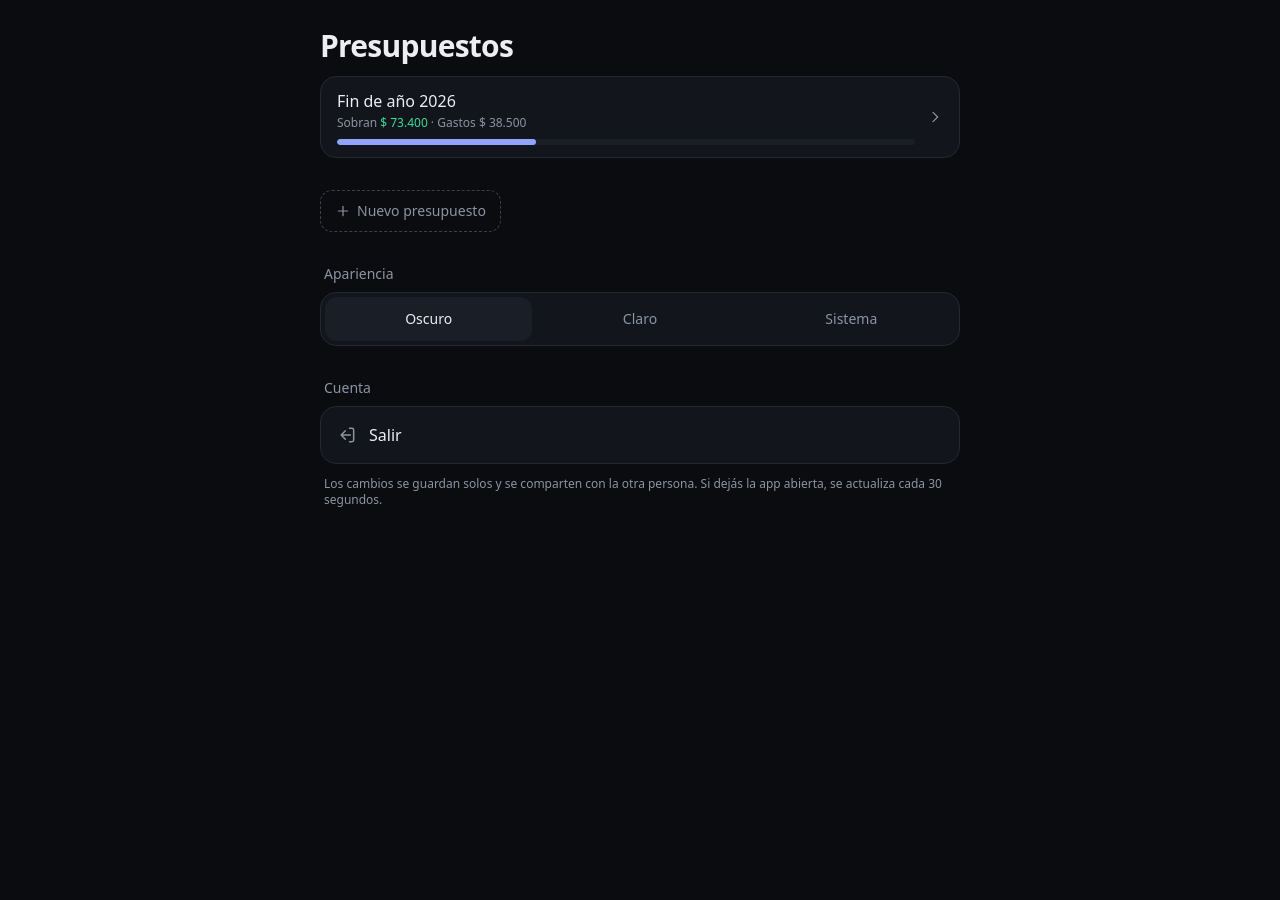
it: crear un presupuesto › crea una copia con el nombre indicado y la abre
Click the button "Nuevo presupuesto". click: (410, 211)
box: [320,190,501,232]
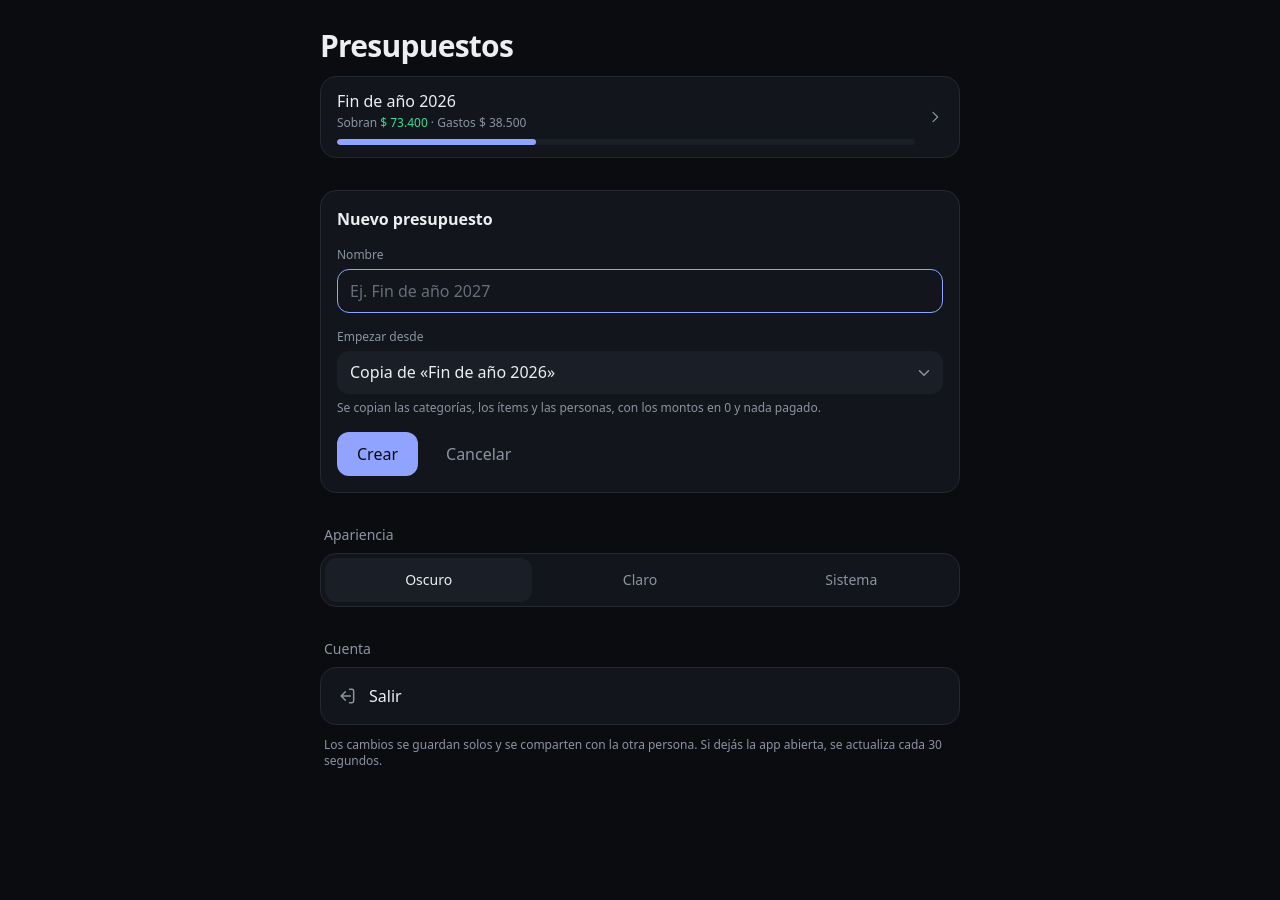
Type "Fin de año 2027" into the field labelled "Nombre". click: (640, 291)
box: [337,269,943,313]
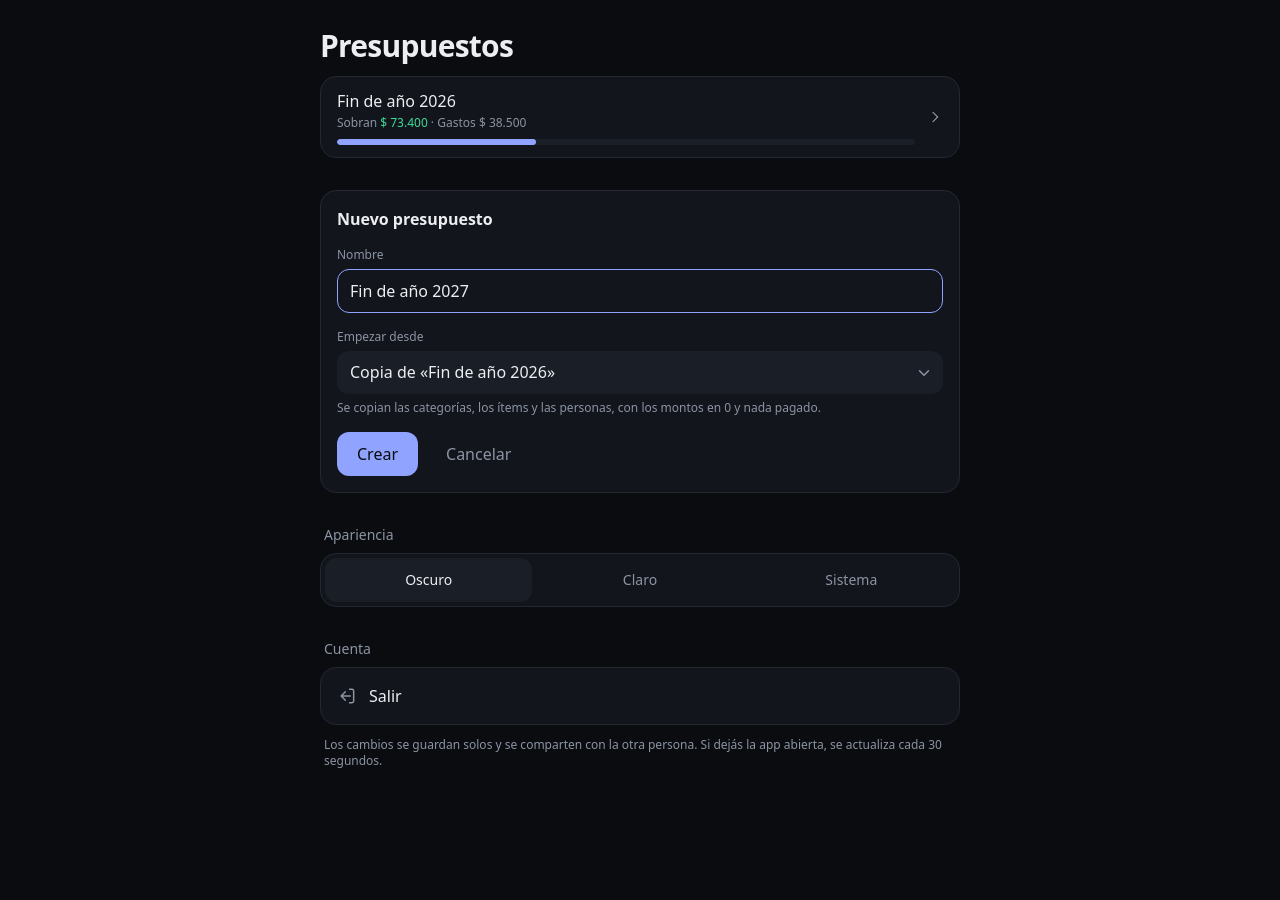
Click the button "Crear". click: (378, 454)
box: [337,432,418,476]
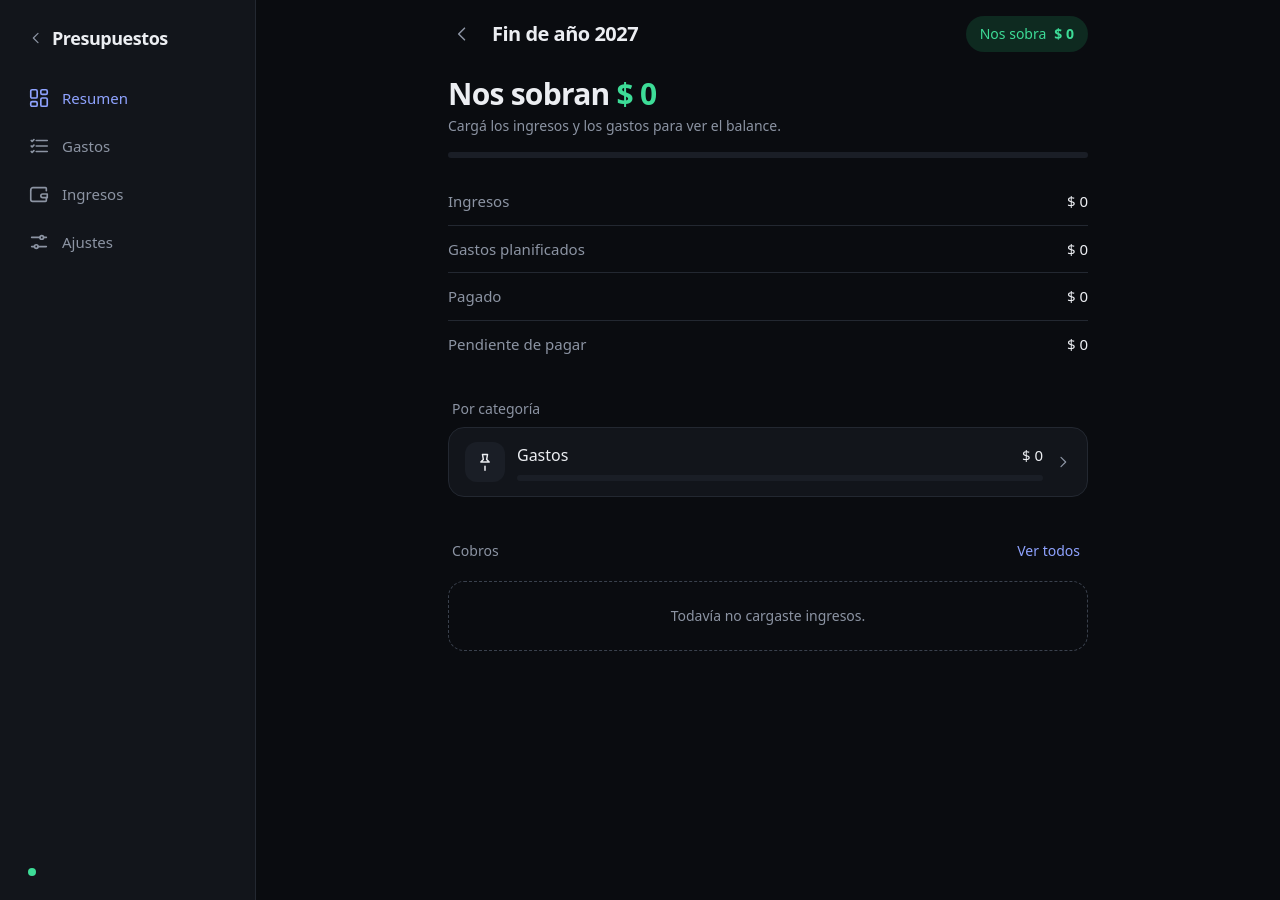
Expected: the heading "Fin de año 2027" is shown, [492,20,638,47]
